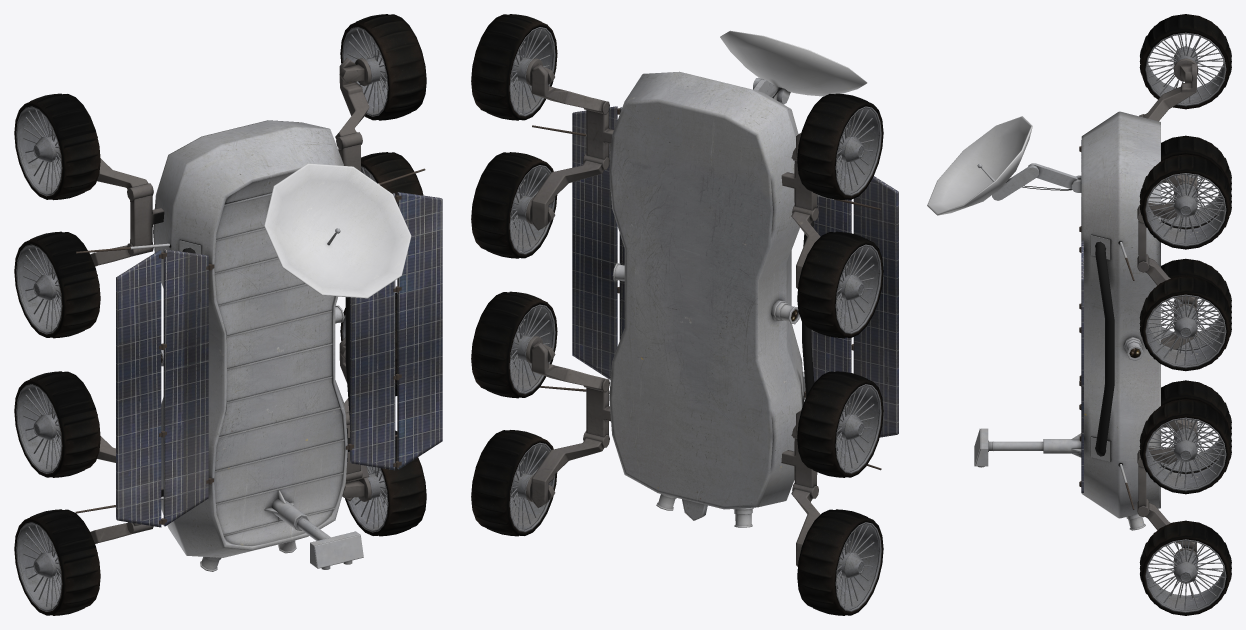
File: 14014_Moon_Rover_V1_l1.obj
The picture shows the model from 3 angles, left to right: view 1: azimuth 30°, elevation 25°; view 2: azimuth 150°, elevation 25°; view 3: azimuth 270°, elevation 25°; orthographic projection. The views are drawn at different scales.
Visible parts, largest first — view 1: Rover_Body, solar_panels, antenna, body_wheel, tire004, tire007, tire006, tire005, tire003, wheel006, wheel008, wheel005 (+8 smaller); view 2: Rover_Body, solar_panels, body_wheel, antenna, tire004, tire007, tire005, tire006, tire003, tire001, tire002, tire (+10 smaller); view 3: Rover_Body, antenna, body_wheel, wheel1, wheel004, wheel003, wheel002, Rover_tube, wheel007, tire, tire003, tire001 (+11 smaller).
Part boxes in pixels (bbox=[...]): Rover_Body: bbox=[153, 120, 347, 557]; solar_panels: bbox=[116, 192, 442, 527]; antenna: bbox=[264, 163, 411, 298]; body_wheel: bbox=[90, 58, 371, 553]; tire004: bbox=[14, 371, 100, 477]; tire007: bbox=[14, 509, 100, 615]; tire006: bbox=[14, 93, 100, 200]; tire005: bbox=[14, 231, 100, 338]; tire003: bbox=[340, 14, 426, 120]; wheel006: bbox=[16, 244, 62, 334]; wheel008: bbox=[16, 522, 62, 611]; wheel005: bbox=[16, 384, 62, 473]; Rover_Body: bbox=[609, 71, 804, 520]; solar_panels: bbox=[572, 106, 898, 437]; body_wheel: bbox=[526, 58, 820, 566]; antenna: bbox=[720, 30, 867, 104]; tire004: bbox=[797, 371, 883, 477]; tire007: bbox=[797, 509, 883, 615]; tire005: bbox=[797, 231, 883, 338]; tire006: bbox=[797, 93, 883, 199]; tire003: bbox=[471, 14, 557, 120]; tire001: bbox=[471, 291, 557, 398]; tire002: bbox=[471, 152, 557, 258]; tire: bbox=[471, 430, 557, 536]; Rover_Body: bbox=[1081, 111, 1160, 518]; antenna: bbox=[927, 116, 1081, 215]; body_wheel: bbox=[1137, 58, 1198, 564]; wheel1: bbox=[1145, 539, 1226, 612]; wheel004: bbox=[1145, 173, 1226, 246]; wheel003: bbox=[1145, 294, 1226, 368]; wheel002: bbox=[1145, 417, 1226, 491]; Rover_tube: bbox=[1091, 234, 1114, 461]; wheel007: bbox=[1145, 32, 1226, 106]; tire: bbox=[1139, 520, 1231, 615]; tire003: bbox=[1139, 154, 1231, 249]; tire001: bbox=[1139, 399, 1231, 494].
Size of the model in its own units: 139 by 185 by 114.
Materials: 11 (10 with a texture image).
